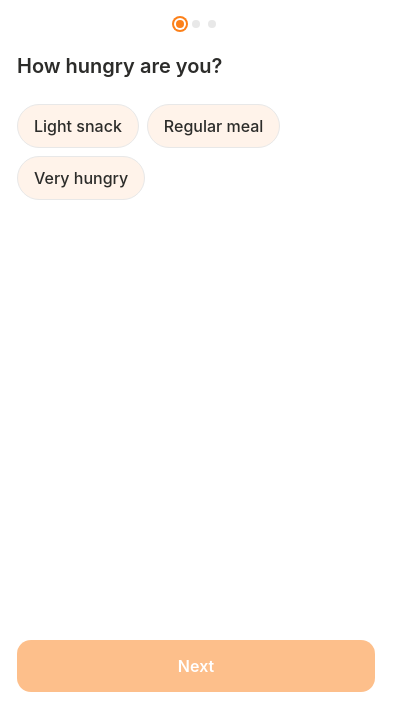
Questions — Q1 → Q2 step advance (Item 12) › Q2 heading is visible after advancing from Q1
The image size is (393, 710).
Click the radio button labelled "Regular meal" at (214, 126), box top-left (147, 104), bottom-right (280, 148)
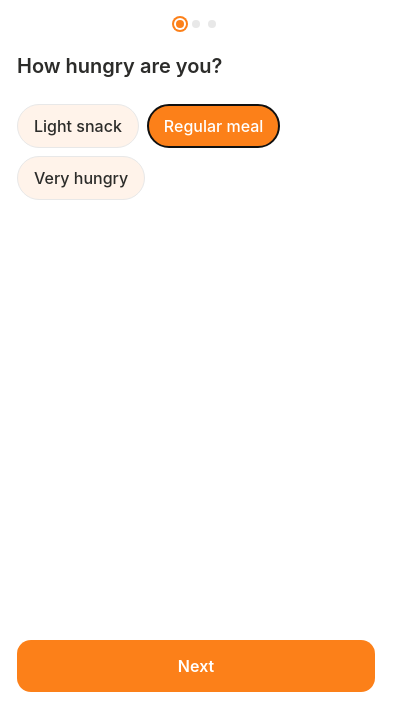
Click the button "Next" at (196, 666), box top-left (17, 640), bottom-right (375, 692)
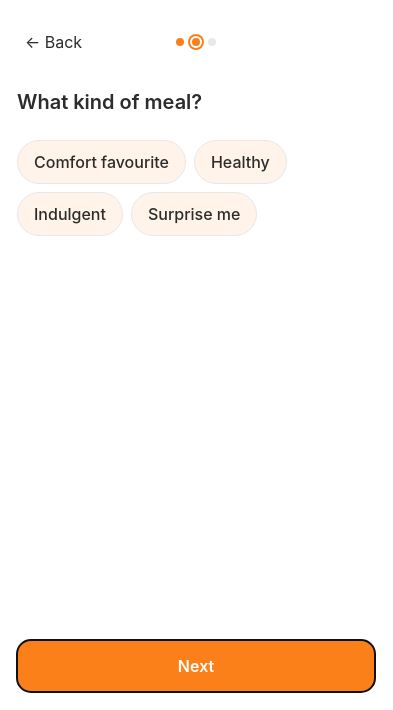
Expected: the heading "What kind of meal?" is shown, top-left (17, 90), bottom-right (202, 114)
